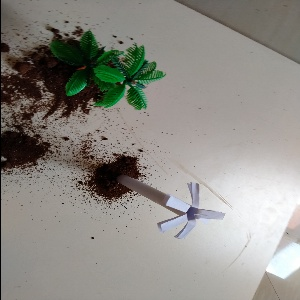plant: (28, 34, 154, 108)
weed: (108, 153, 224, 241)
